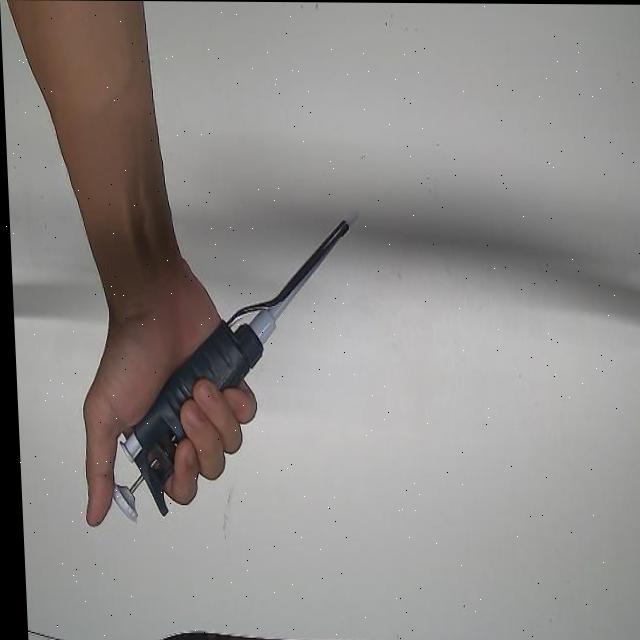Single Channel Pipettor: (95, 204, 371, 523)
